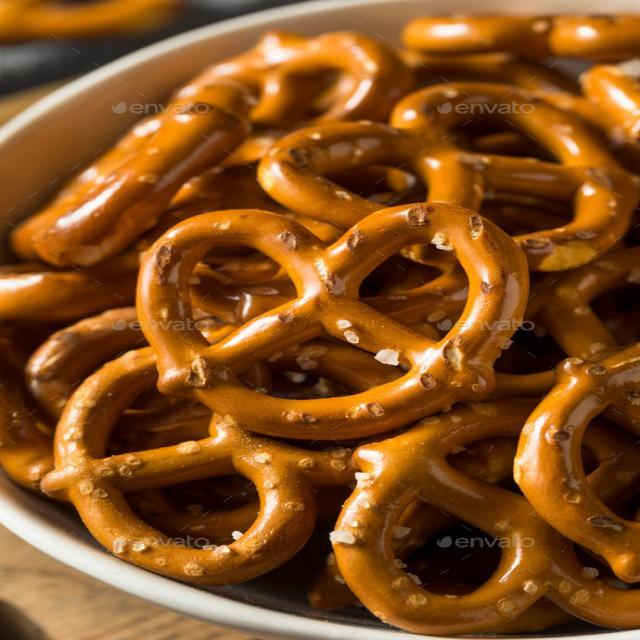Salatini: (13, 14, 640, 636)
